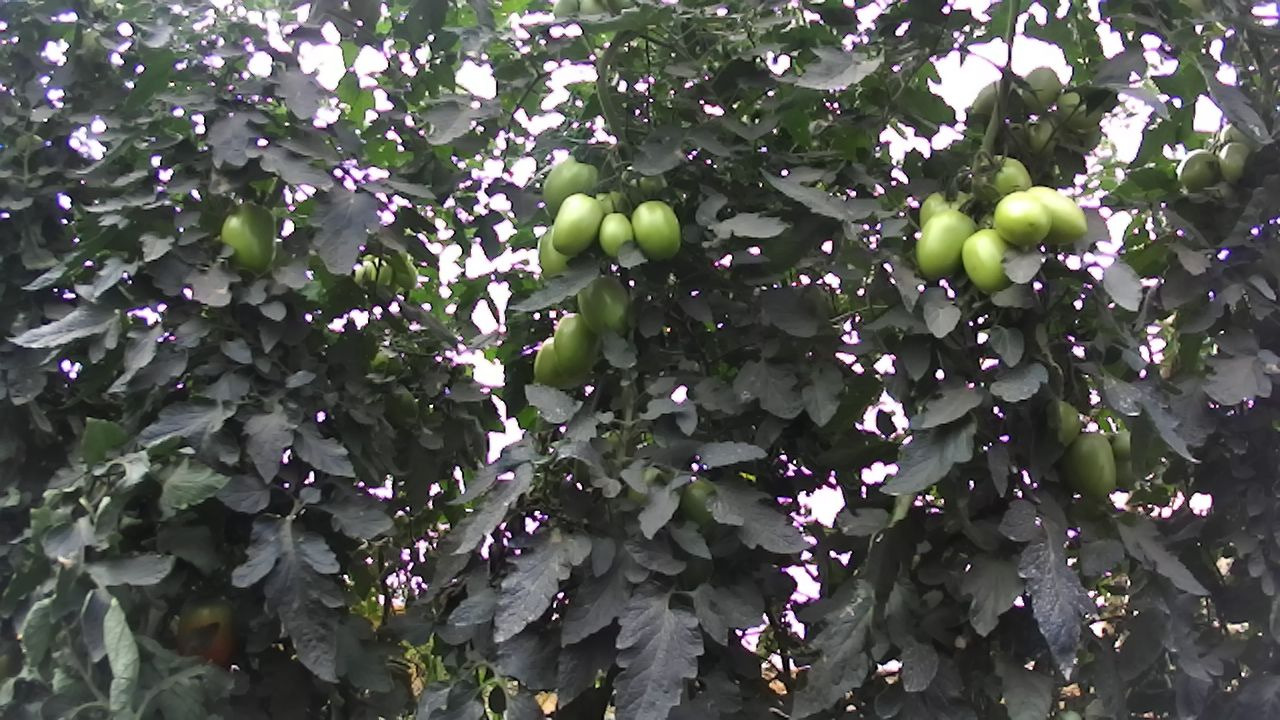tomato: (167, 587, 247, 678), (912, 208, 983, 282), (215, 199, 281, 278), (959, 223, 1025, 297), (1057, 427, 1119, 504), (1025, 180, 1091, 246), (574, 272, 636, 338), (539, 154, 599, 221), (989, 189, 1055, 247), (548, 190, 604, 257), (630, 198, 684, 264), (531, 334, 590, 391), (551, 311, 598, 382), (1018, 61, 1065, 119), (1173, 145, 1224, 196), (1213, 137, 1252, 190), (597, 211, 634, 260)
